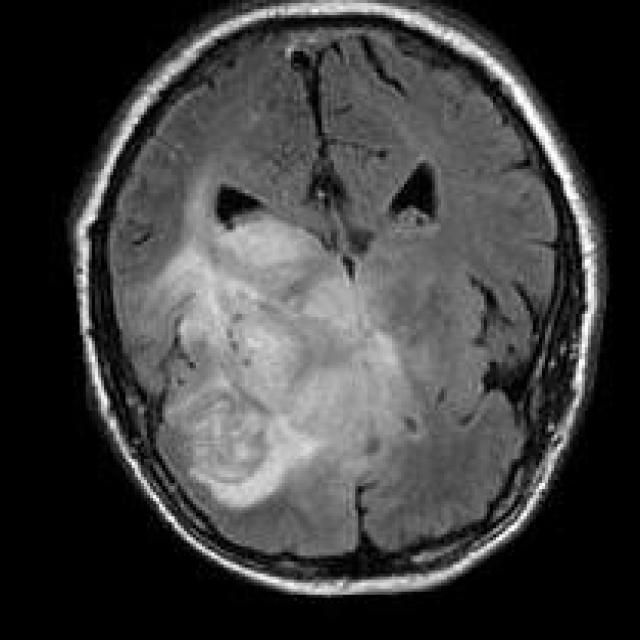brain tumor: (119, 226, 416, 510)
